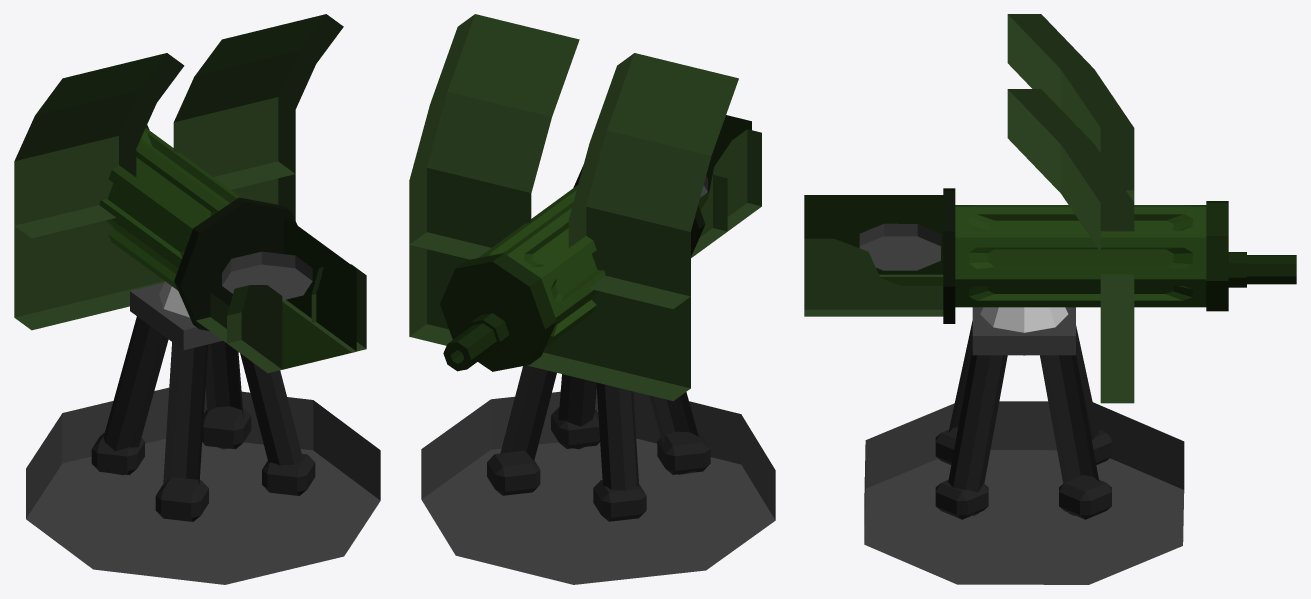
File: turret3.obj
3 renders of one model, left to right at view 1: azimuth 30°, elevation 25°; view 2: azimuth 150°, elevation 25°; view 3: azimuth 270°, elevation 25°, orthographic. The views are drawn at different scales.
Visible parts, largest first — view 1: Cube.002; view 2: Cube.002; view 3: Cube.002.
Boxes of the visible parts, <box> form: Cube.002: <box>14,14,380,584</box>; Cube.002: <box>409,14,775,584</box>; Cube.002: <box>804,14,1296,584</box>.
Size of the model in its own units: 1.85 by 2.82 by 2.85.
